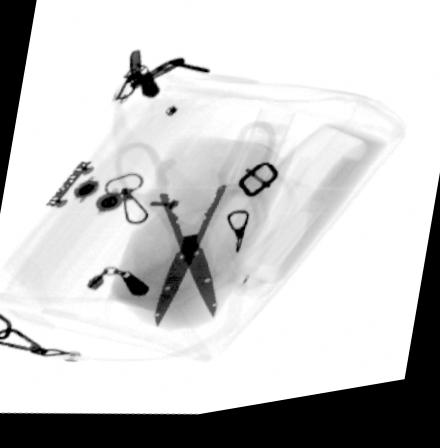Scissors: (116, 128, 274, 333)
